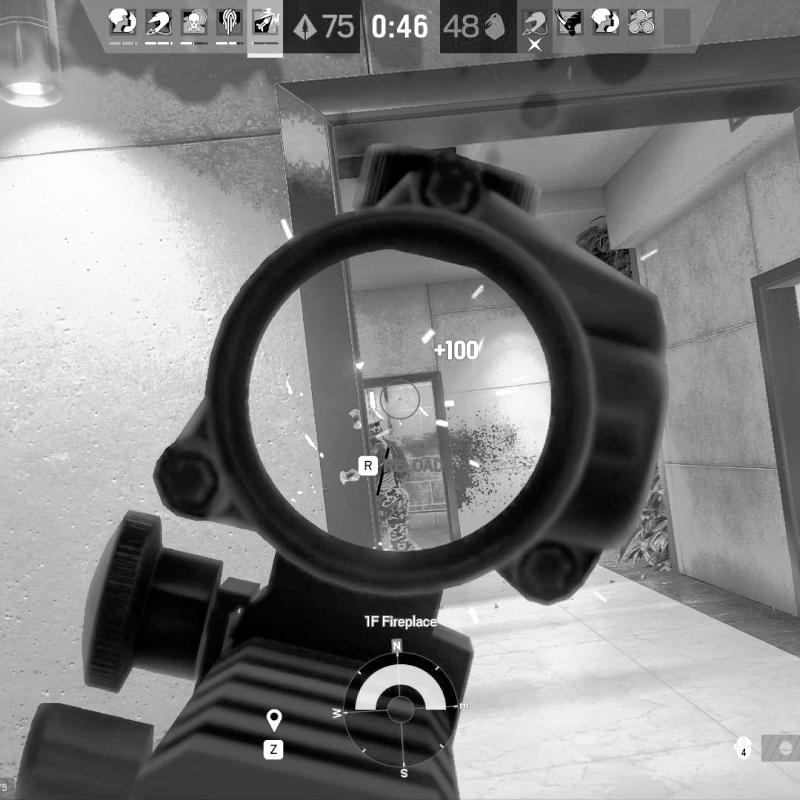Character: (367, 420, 416, 554)
Head: (368, 422, 382, 436)
